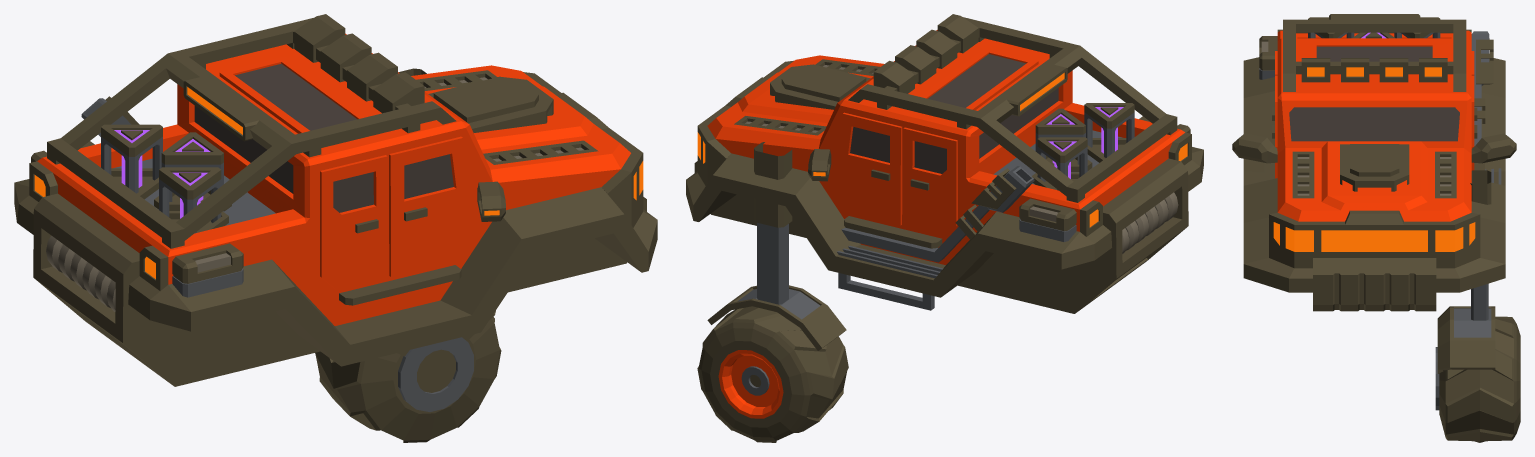
3 renders of one model, left to right at view 1: azimuth 30°, elevation 25°; view 2: azimuth 150°, elevation 25°; view 3: azimuth 270°, elevation 25°, orthographic. The views are drawn at different scales.
Parts seen in each view (by area): view 1: common, bodyPainted.001, wheel.006, wheelGuard.001, energy.001, cellsCage.003, cellsCage.005, cellsCage.004; view 2: common, bodyPainted.001, wheel.006, wheelSuspension.002, wheelGuard.001, wheelPainted, energy.001, cellsCage.005, cellsCage.003, cellsCage.004; view 3: common, bodyPainted.001, wheel.006, headlights.001, wheelGuard.001, wheelSuspension.002, energy.001, cellsCage.003, cellsCage.005.
Boxes of the visible parts, box(x1,y1,x2,y2) form: common: box(14, 14, 657, 386); bodyPainted.001: box(37, 33, 630, 325); wheel.006: box(315, 317, 501, 442); wheelGuard.001: box(397, 310, 495, 411); energy.001: box(46, 77, 583, 311); cellsCage.003: box(101, 124, 162, 193); cellsCage.005: box(159, 167, 221, 233); cellsCage.004: box(161, 132, 223, 201); common: box(686, 14, 1203, 313); bodyPainted.001: box(707, 30, 1184, 264); wheel.006: box(697, 306, 848, 442); wheelSuspension.002: box(754, 142, 792, 304); wheelGuard.001: box(707, 285, 846, 350); wheelPainted: box(718, 350, 783, 418); energy.001: box(745, 65, 1178, 253); cellsCage.005: box(1084, 103, 1134, 157); cellsCage.003: box(1037, 137, 1087, 190); cellsCage.004: box(1035, 108, 1085, 164); common: box(1232, 14, 1516, 311); bodyPainted.001: box(1275, 30, 1474, 221); wheel.006: box(1439, 316, 1520, 442); headlights.001: box(1285, 67, 1463, 251); wheelGuard.001: box(1435, 306, 1495, 410); wheelSuspension.002: box(1470, 170, 1491, 320); energy.001: box(1261, 41, 1451, 195); cellsCage.003: box(1394, 17, 1440, 38); cellsCage.005: box(1308, 17, 1354, 38).
Bounding box in the file's own units: 2.99 × 2.48 × 1.91.
5 materials, 1 textured.
